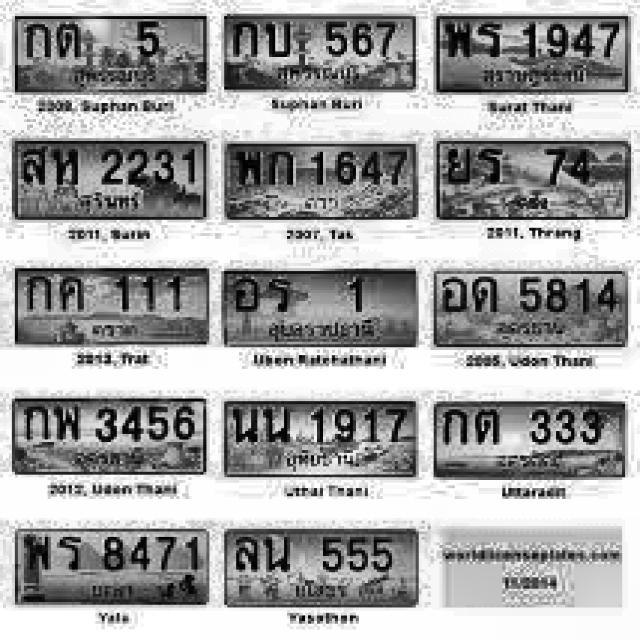license-plate: (13, 138, 208, 222), (13, 266, 209, 348), (437, 138, 630, 219), (13, 13, 208, 93), (222, 270, 418, 349), (16, 528, 211, 607), (224, 142, 420, 220), (434, 270, 628, 348), (225, 530, 420, 606), (223, 13, 415, 90), (434, 402, 628, 478), (12, 399, 207, 474), (226, 402, 417, 478), (436, 19, 629, 90)
